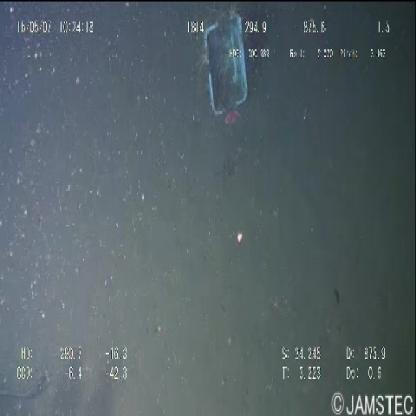Rác: (198, 8, 254, 128)
